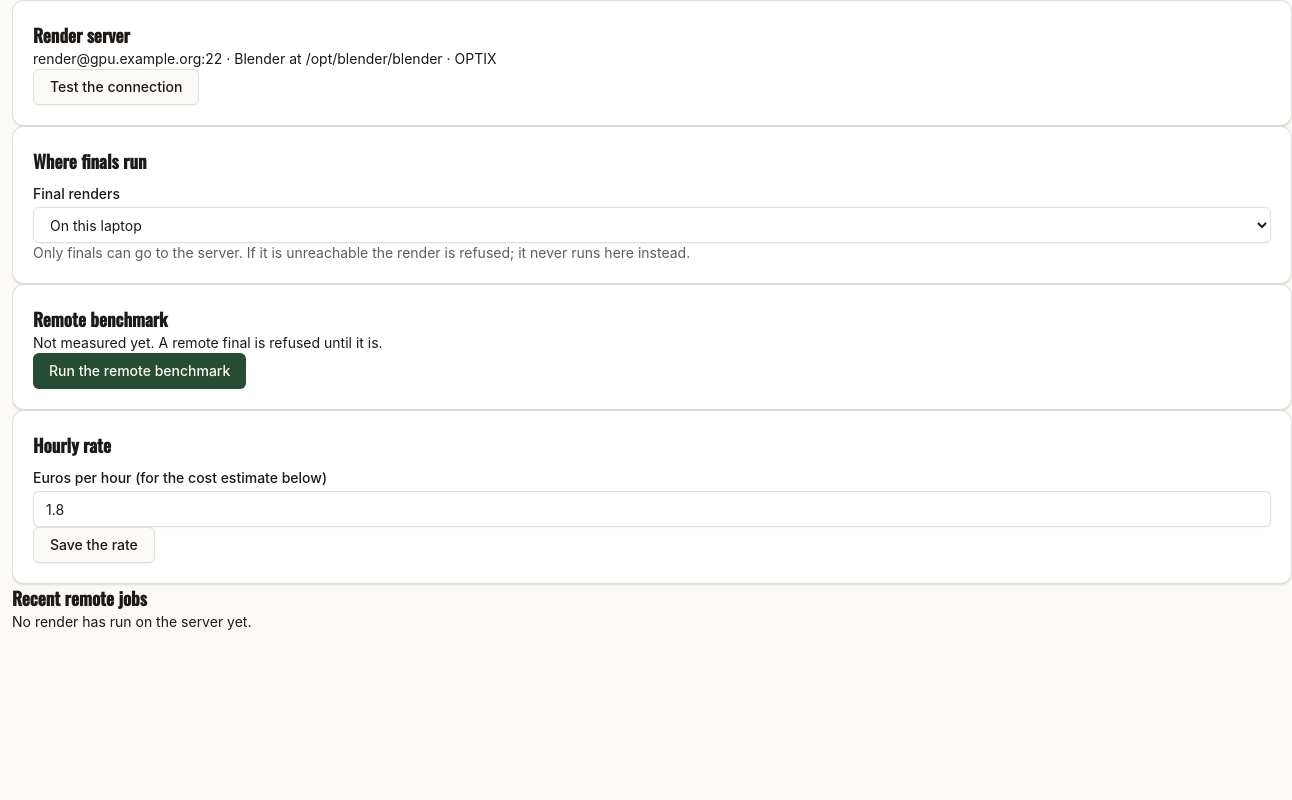
Test: the remote benchmark is run and its numbers shown
The image size is (1292, 800).
Expected: the text "Not measured yet. A remote final is refused until it is." is shown, [33,334,383,351]
What coordinates should you click on to do the following:
click the button "Run the remote benchmark"
I would click on:
 (140, 371)
Its box is [33,353,246,389].
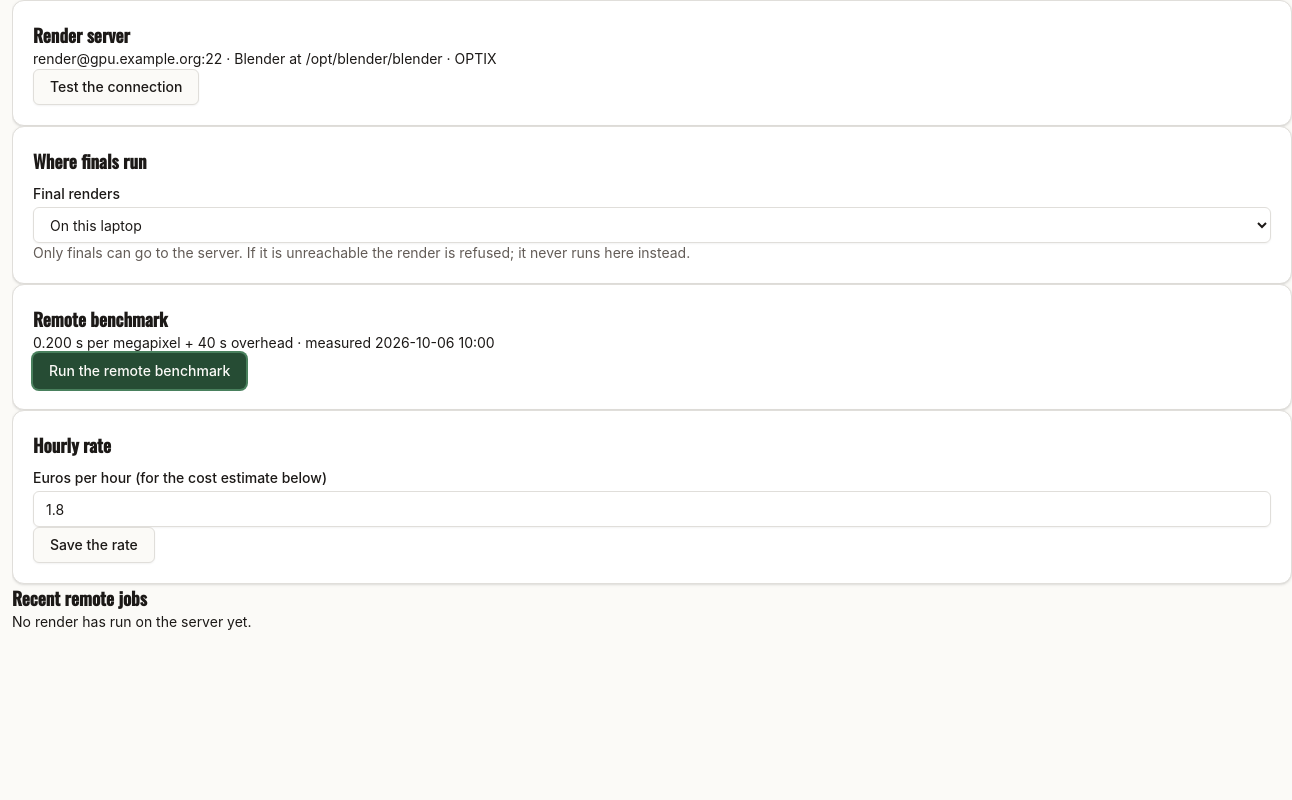
Result: the text "0.200 s per megapixel + 40 s" is shown at [33,334,495,351]
